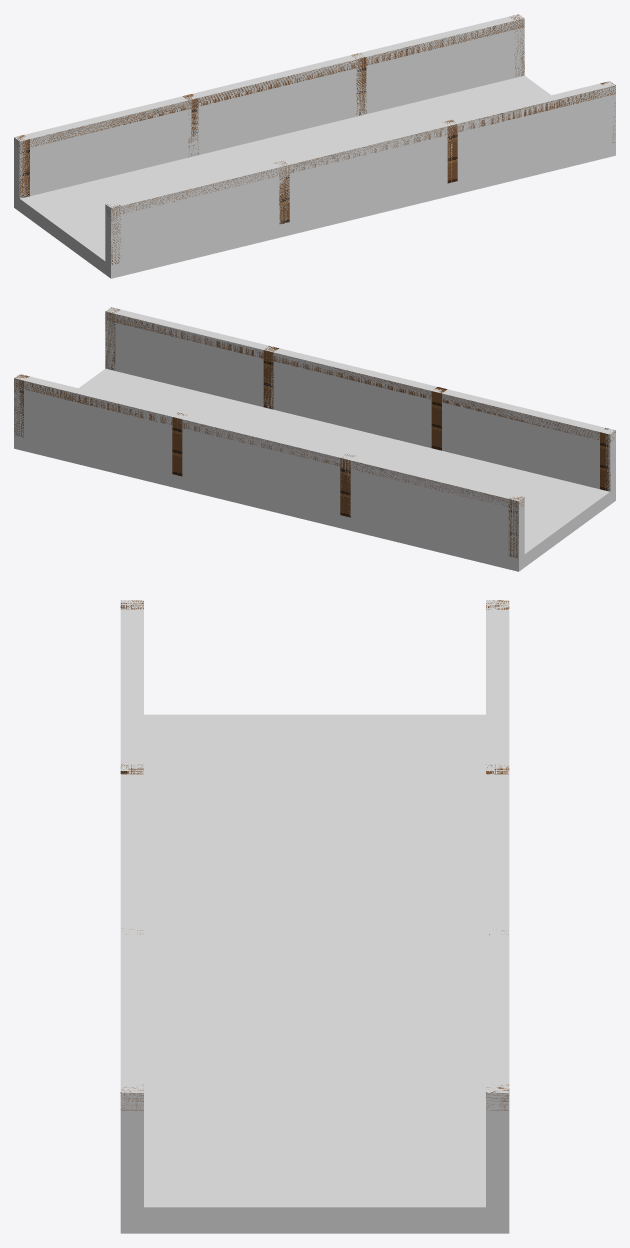
File: bridge_6m.glb
3 renders of one model, top to bottom at view 1: azimuth 30°, elevation 25°; view 2: azimuth 150°, elevation 25°; view 3: azimuth 270°, elevation 25°, orthographic. The views are drawn at different scales.
Parts seen in each view (by area): view 1: col_rail_north, col_rail_south, col_deck, rail_north, rail_south, post_south_+1, post_north_-3, post_south_-1, post_north_+1, post_north_-1; view 2: col_rail_north, col_rail_south, col_deck, rail_south, rail_north, post_south_-1, post_south_+1, post_north_-1, post_north_+1, post_south_-3, post_north_-3, post_north_+3 (+1 smaller); view 3: col_deck, col_rail_south, col_rail_north.
Part boxes in pixels (x1=…): col_rail_north: x1=14, y1=14, x2=524, y2=198; col_rail_south: x1=105, y1=81, x2=615, y2=265; col_deck: x1=14, y1=75, x2=615, y2=278; rail_north: x1=14, y1=19, x2=524, y2=149; rail_south: x1=107, y1=86, x2=615, y2=214; post_south_+1: x1=445, y1=119, x2=457, y2=183; post_north_-3: x1=15, y1=135, x2=29, y2=197; post_south_-1: x1=274, y1=161, x2=289, y2=223; post_north_+1: x1=351, y1=53, x2=366, y2=115; post_north_-1: x1=182, y1=94, x2=198, y2=157; col_rail_north: x1=14, y1=374, x2=524, y2=558; col_rail_south: x1=105, y1=307, x2=615, y2=491; col_deck: x1=14, y1=368, x2=615, y2=571; rail_south: x1=105, y1=312, x2=615, y2=442; rail_north: x1=14, y1=379, x2=524, y2=506; post_south_-1: x1=431, y1=387, x2=447, y2=450; post_south_+1: x1=263, y1=346, x2=278, y2=409; post_north_-1: x1=340, y1=454, x2=354, y2=517; post_north_+1: x1=172, y1=412, x2=186, y2=476; post_south_-3: x1=600, y1=428, x2=615, y2=491; post_north_-3: x1=508, y1=496, x2=522, y2=557; post_north_+3: x1=14, y1=374, x2=29, y2=437; col_deck: x1=120, y1=714, x2=509, y2=1233; col_rail_south: x1=120, y1=600, x2=143, y2=1207; col_rail_north: x1=486, y1=600, x2=509, y2=1207.
Bounding box in the file's own units: 6 × 0.8 × 2.
2 materials, 2 textured.
